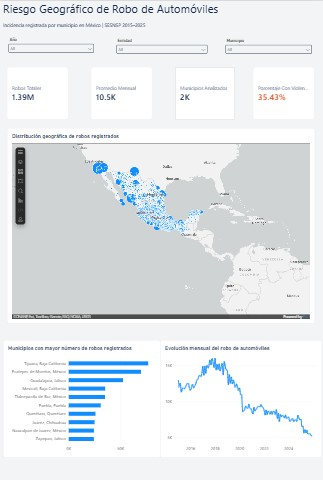

The page's visual inventory and layout, read from the dashboard file:
{"tool":"powerbi","page":{"name":"Riesgo Geográfico","canvas":[1080,1600],"ordinal":0},"visuals":[{"type":"cardVisual","fields":{"Data":["Medidas.Robos Totales"]},"box":[21.7,220,204.3,175.7],"z":0},{"type":"cardVisual","fields":{"Data":["Medidas.Promedio Mensual"]},"box":[301.7,220,204.3,175.7],"z":1000},{"type":"cardVisual","fields":{"Data":["Medidas.Municipios Analizados"]},"box":[581.7,220,200,175.7],"z":2000},{"type":"cardVisual","fields":{"Data":["Medidas.Porcentaje Con Violencia"]},"box":[843.3,220,204.3,175.7],"z":3000},{"type":"slicer","fields":{"Values":["DimFecha.Año"]},"box":[21.9,121.6,295,82.5],"z":4000},{"type":"slicer","fields":{"Values":["DimMunicipio.Entidad"]},"box":[383,122,312.5,82.5],"z":5000},{"type":"slicer","fields":{"Values":["DimMunicipio.Municipio"]},"box":[748,122,297.5,82.5],"z":6000},{"type":"clusteredBarChart","title":"Municipios con mayor número de robos registrados","fields":{"Category":["DimMunicipio.Municipio Entidad"],"Y":["Sum(Fact_RiesgoAutomotriz.robos_totales)"]},"box":[8.7,1129.6,525,392.5],"z":7000},{"type":"lineChart","title":"Evolución mensual del robo de automóviles","fields":{"Category":["DimFecha.Date"],"Y":["Medidas.Robos Totales"]},"box":[533.7,1129.6,540,392.5],"z":8000},{"type":"esriVisual","title":"Distribución geográfica de robos registrados","fields":{"Location":["DimMunicipio.Ubicacion Completa"],"Size":["Medidas.Robos Totales"]},"box":[21.7,423.3,1026.7,653.3],"z":9000},{"type":"textbox","box":[9,0,901,97],"z":10000}]}

Visuals, with their boxes in screenshot pixels (x1, y1, x2, y2), scaled from the page's 1080x1600 canvas onto the 323x480 screenshot:
cardVisual - Medidas.Robos Totales: BBox(6, 66, 68, 119)
cardVisual - Medidas.Promedio Mensual: BBox(90, 66, 151, 119)
cardVisual - Medidas.Municipios Analizados: BBox(174, 66, 234, 119)
cardVisual - Medidas.Porcentaje Con Violencia: BBox(252, 66, 313, 119)
slicer - DimFecha.Año: BBox(7, 36, 95, 61)
slicer - DimMunicipio.Entidad: BBox(115, 37, 208, 61)
slicer - DimMunicipio.Municipio: BBox(224, 37, 313, 61)
"Municipios con mayor número de robos registrados" clusteredBarChart: BBox(3, 339, 160, 457)
"Evolución mensual del robo de automóviles" lineChart: BBox(160, 339, 321, 457)
"Distribución geográfica de robos registrados" esriVisual: BBox(6, 127, 314, 323)
textbox: BBox(3, 0, 272, 29)
